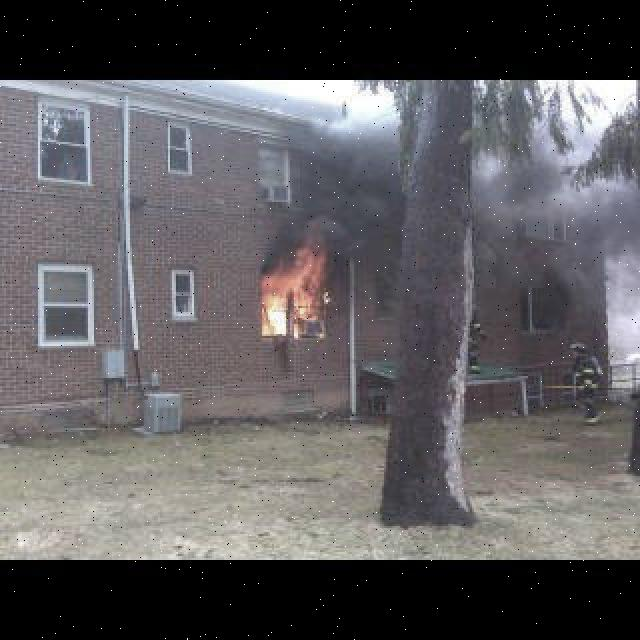fire: (252, 244, 344, 336)
smoke: (288, 124, 404, 250)
